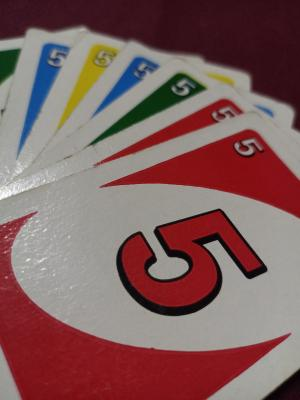num_5: (230, 133, 268, 166), (208, 102, 244, 129), (166, 72, 199, 101), (45, 41, 72, 73), (88, 43, 117, 71), (130, 57, 157, 86)
